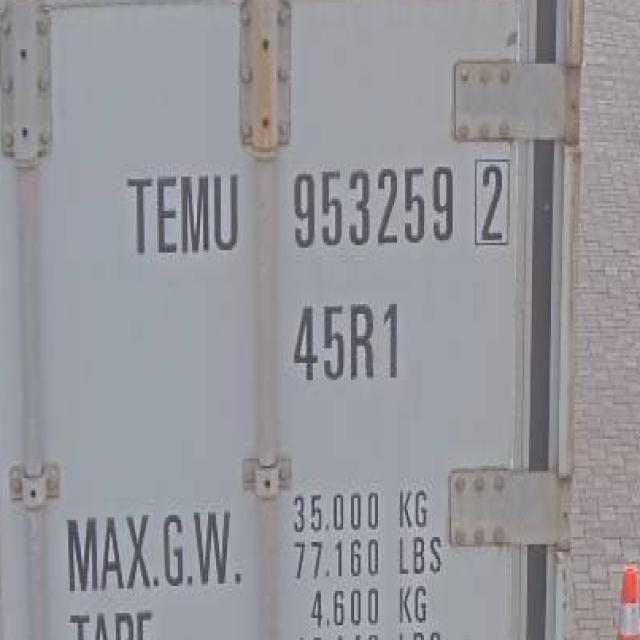dv: (469, 150, 516, 254)
owner: (121, 157, 245, 265)
serial: (285, 152, 456, 257)
size: (285, 293, 406, 393)
